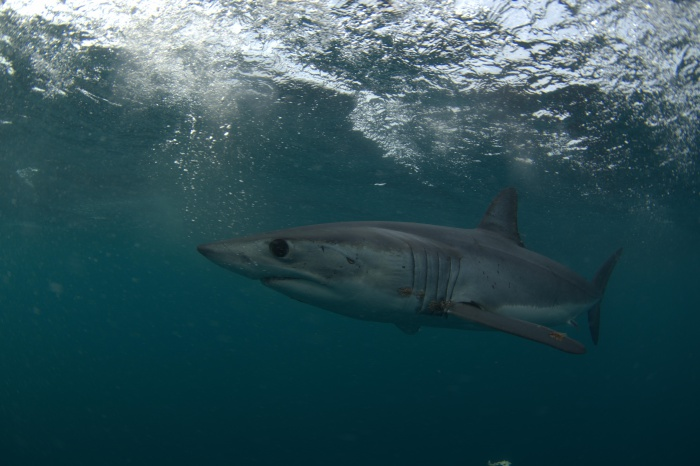Mako: (178, 183, 623, 360)
